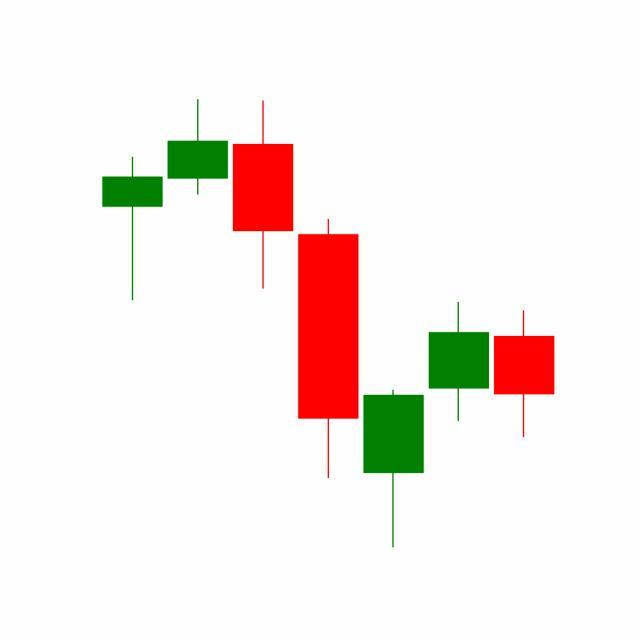Tasuki Gap: (360, 299, 556, 549)
